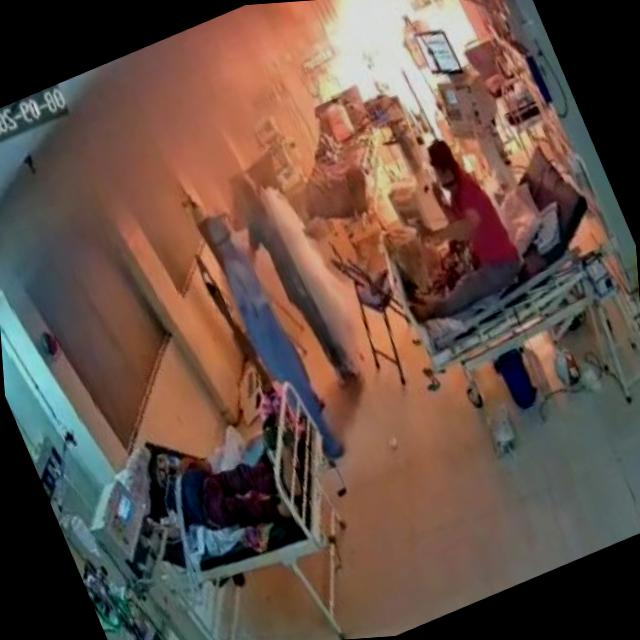fire: (249, 0, 520, 183)
